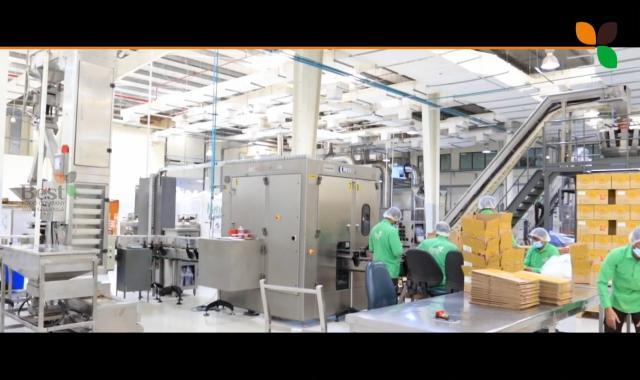hairnet: (530, 224, 548, 248), (432, 219, 452, 238), (627, 226, 640, 254), (530, 228, 551, 245), (629, 228, 640, 258), (434, 220, 452, 238), (384, 206, 401, 224), (384, 206, 402, 222), (477, 196, 495, 208)
